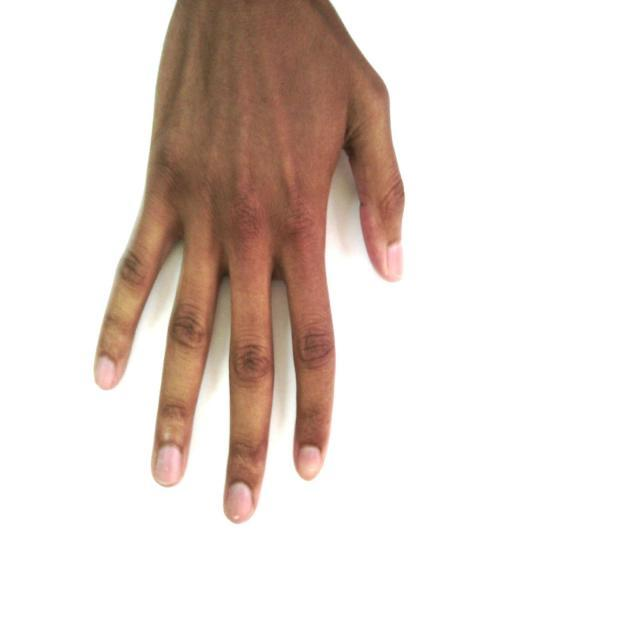Fingernail: (227, 483, 253, 520), (156, 446, 181, 483), (299, 446, 320, 477), (96, 357, 115, 387), (388, 244, 402, 280)
